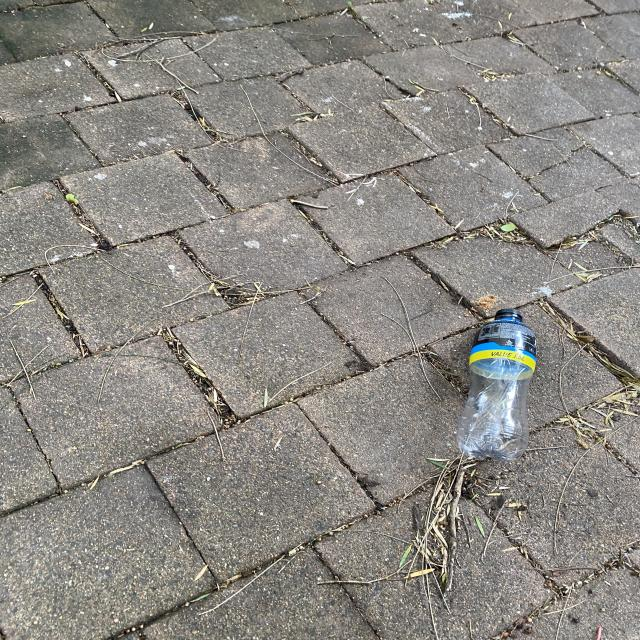bottle: (453, 306, 542, 464)
